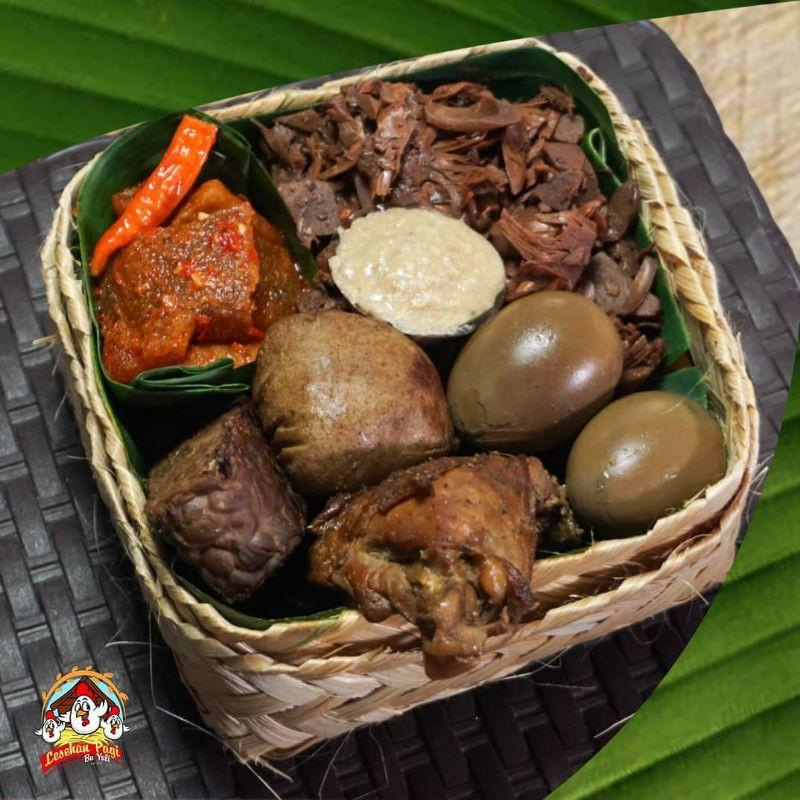gudeg: (84, 77, 729, 655)
